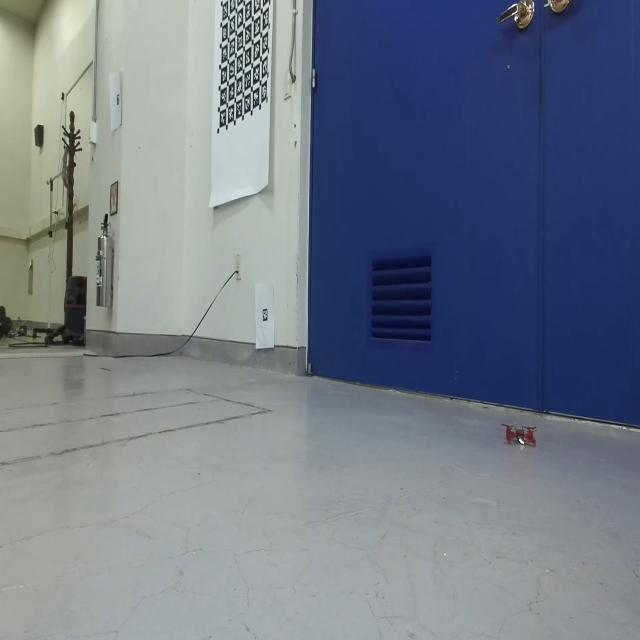crazyflie: (498, 415, 538, 452)
